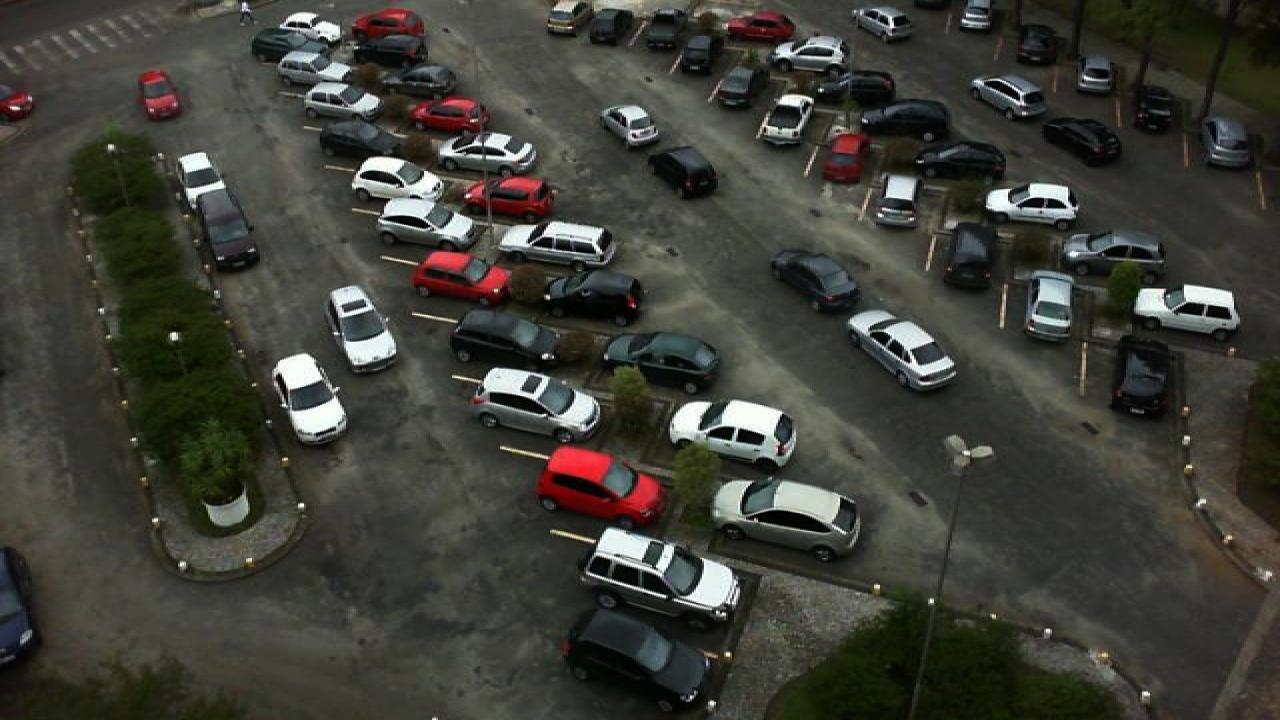Car: (574, 526, 744, 634), (562, 605, 714, 711), (706, 475, 864, 561), (536, 446, 670, 526), (666, 397, 800, 475), (468, 367, 604, 443), (844, 310, 960, 391), (600, 330, 722, 396), (272, 351, 350, 447), (448, 310, 564, 371), (1130, 282, 1244, 341), (326, 284, 400, 373), (374, 196, 484, 253), (496, 218, 618, 269), (772, 247, 864, 314), (540, 268, 644, 327), (408, 250, 512, 307), (1110, 334, 1178, 420), (348, 153, 454, 205), (1064, 228, 1168, 280), (196, 192, 262, 273), (434, 129, 538, 179), (982, 181, 1080, 230), (462, 174, 558, 223), (910, 137, 1010, 180), (942, 221, 1000, 290), (1044, 116, 1124, 165), (1022, 271, 1076, 343), (860, 98, 954, 139), (970, 74, 1050, 120), (316, 118, 396, 160), (300, 81, 386, 120), (406, 97, 492, 134), (754, 92, 812, 146), (766, 34, 846, 73), (1200, 117, 1256, 170), (378, 63, 458, 100), (174, 151, 228, 205), (276, 49, 350, 88), (868, 174, 920, 229), (250, 26, 324, 63), (348, 33, 430, 66), (834, 69, 898, 110), (820, 133, 868, 187), (848, 6, 916, 44), (350, 8, 426, 37), (728, 9, 796, 41), (676, 31, 724, 76), (716, 64, 762, 109), (1134, 82, 1176, 131), (632, 7, 682, 48), (1014, 23, 1062, 64), (284, 10, 344, 42), (586, 6, 634, 46), (544, 0, 590, 35), (1074, 54, 1114, 94), (956, 0, 994, 33)
